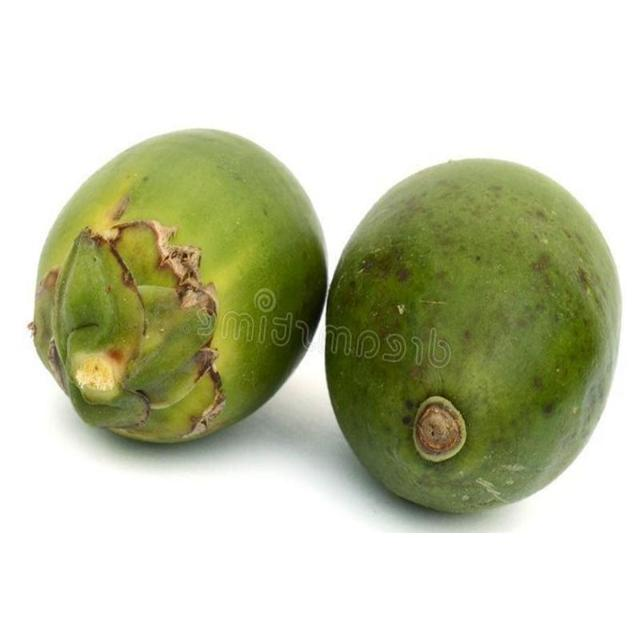good: (323, 158, 623, 516), (29, 128, 330, 445)
